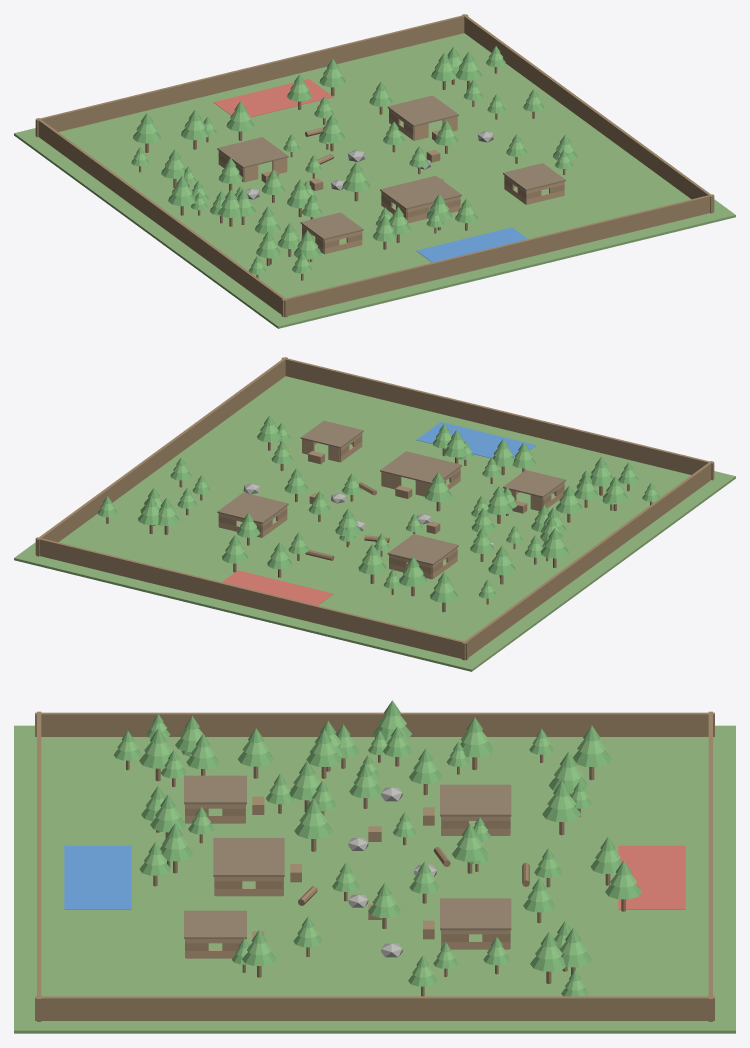
File: bos.glb
3 views of the same model, one above another, from view 1: azimuth 30°, elevation 25°; view 2: azimuth 150°, elevation 25°; view 3: azimuth 270°, elevation 25° (orthographic). The views are drawn at different scales.
Parts seen in each view (by area): view 1: floor, fS, fN, fW, fE, base_red, base_blue, cC_roof, cB_roof, cA_roof, cD_roof, cE_roof; view 2: floor, fN, fS, fW, fE, base_red, cC_roof, base_blue, cA_roof, cB_roof, cE_roof, cD_roof; view 3: floor, fE, fW, base_blue, base_red, cC_roof, cA_roof, cB_roof, cD_roof, cE_roof, fN, fS (+1 smaller).
Part boxes in pixels (x1,y1,x2,y2): floor: (14, 33, 735, 328); fS: (281, 194, 714, 317); fN: (35, 14, 468, 137); fW: (36, 118, 287, 317); fE: (462, 14, 713, 213); base_red: (213, 79, 333, 117); base_blue: (416, 227, 527, 262); cC_roof: (380, 175, 461, 209); cB_roof: (387, 95, 458, 126); cA_roof: (217, 137, 288, 168); cD_roof: (300, 212, 363, 240); cE_roof: (503, 163, 565, 190); floor: (14, 376, 735, 671); fN: (35, 537, 468, 660); fS: (281, 357, 714, 480); fW: (462, 461, 713, 660); fE: (36, 357, 287, 556); base_red: (222, 570, 333, 605); cC_roof: (380, 451, 461, 483); base_blue: (416, 422, 536, 458); cA_roof: (387, 534, 458, 565); cB_roof: (217, 492, 288, 523); cE_roof: (300, 420, 363, 448); cD_roof: (503, 470, 565, 497); floor: (14, 725, 735, 1033); fE: (35, 996, 714, 1020); fW: (35, 712, 714, 736); base_blue: (64, 845, 131, 909); base_red: (618, 845, 685, 909); cC_roof: (213, 838, 284, 876); cA_roof: (440, 784, 511, 816); cB_roof: (440, 898, 511, 930); cD_roof: (184, 775, 246, 804); cE_roof: (184, 910, 246, 938); fN: (708, 711, 712, 1021); fS: (37, 711, 41, 1021).
Bounding box in the file's own units: 86 × 7.52 × 86.
